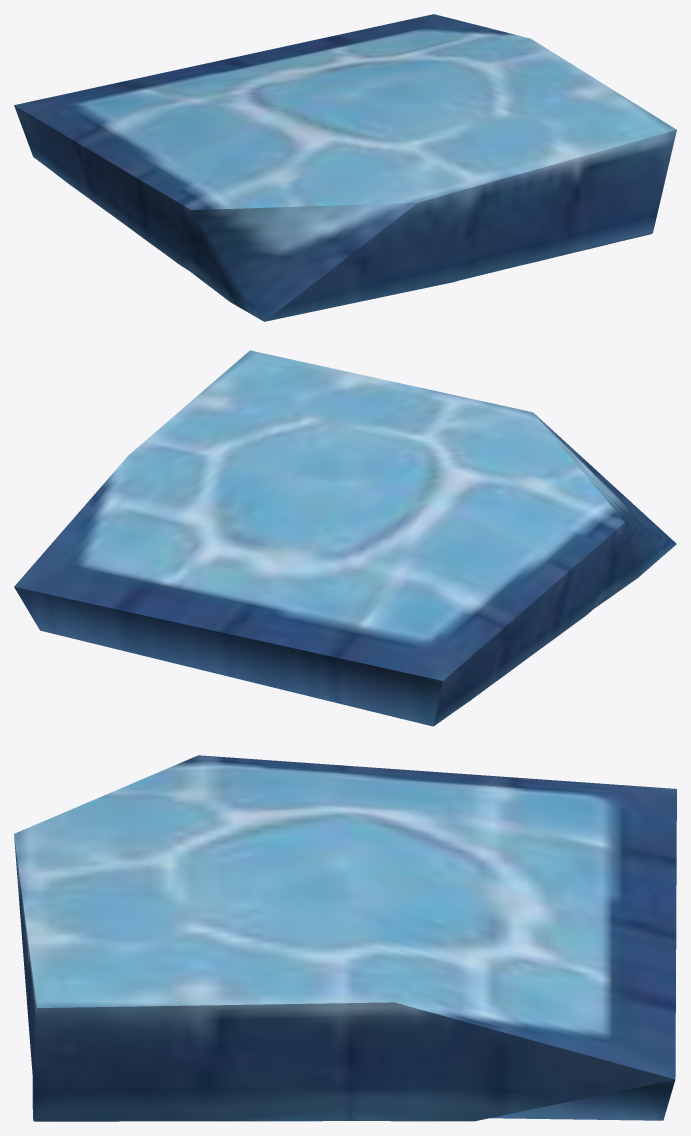
Rendered from b_givre_sol_2_lod1.glb.
3 views of the same model, one above another, from view 1: azimuth 30°, elevation 25°; view 2: azimuth 150°, elevation 25°; view 3: azimuth 270°, elevation 25° (orthographic). The views are drawn at different scales.
Visible parts, largest first — view 1: geometry_0; view 2: geometry_0; view 3: geometry_0.
Part boxes in pixels (x1,y1,x2,y2): geometry_0: (14, 14, 676, 321); geometry_0: (14, 350, 676, 726); geometry_0: (14, 755, 676, 1121).
Bounding box in the file's own units: 1 × 0.2379 × 1.
Materials: 1 (1 with a texture image).
